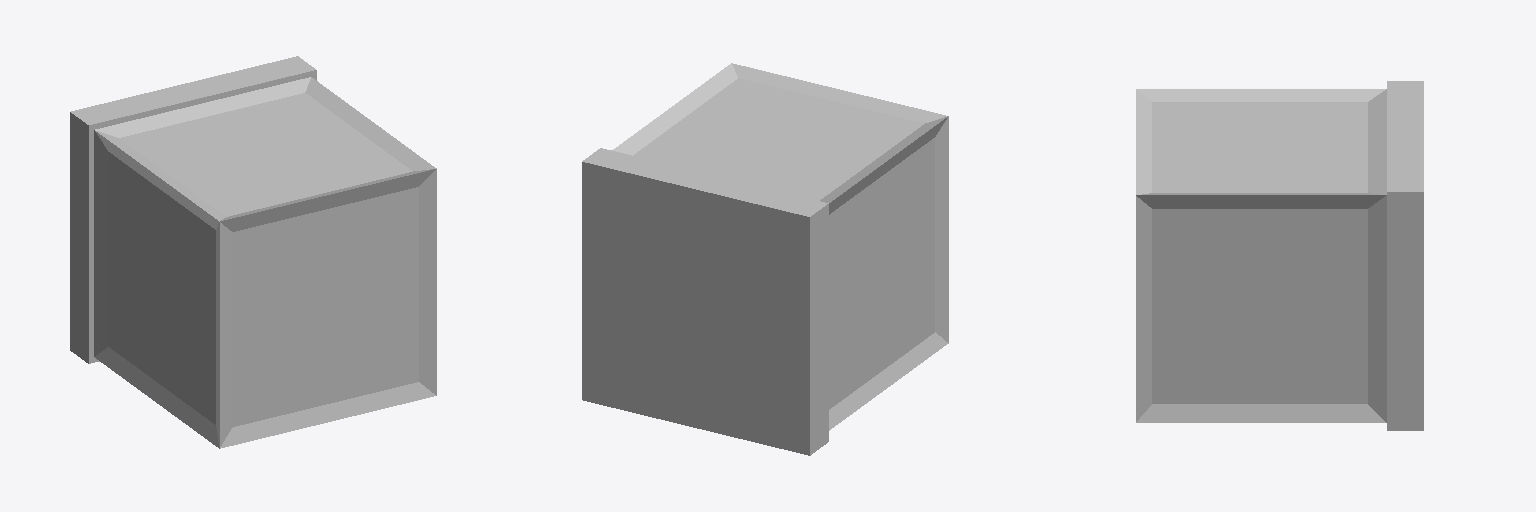
File: igs_box.obj
3 renders of one model, left to right at view 1: azimuth 30°, elevation 25°; view 2: azimuth 150°, elevation 25°; view 3: azimuth 270°, elevation 25°, orthographic.
Bounding box in the file's own units: 0.084 × 0.084 × 0.092.